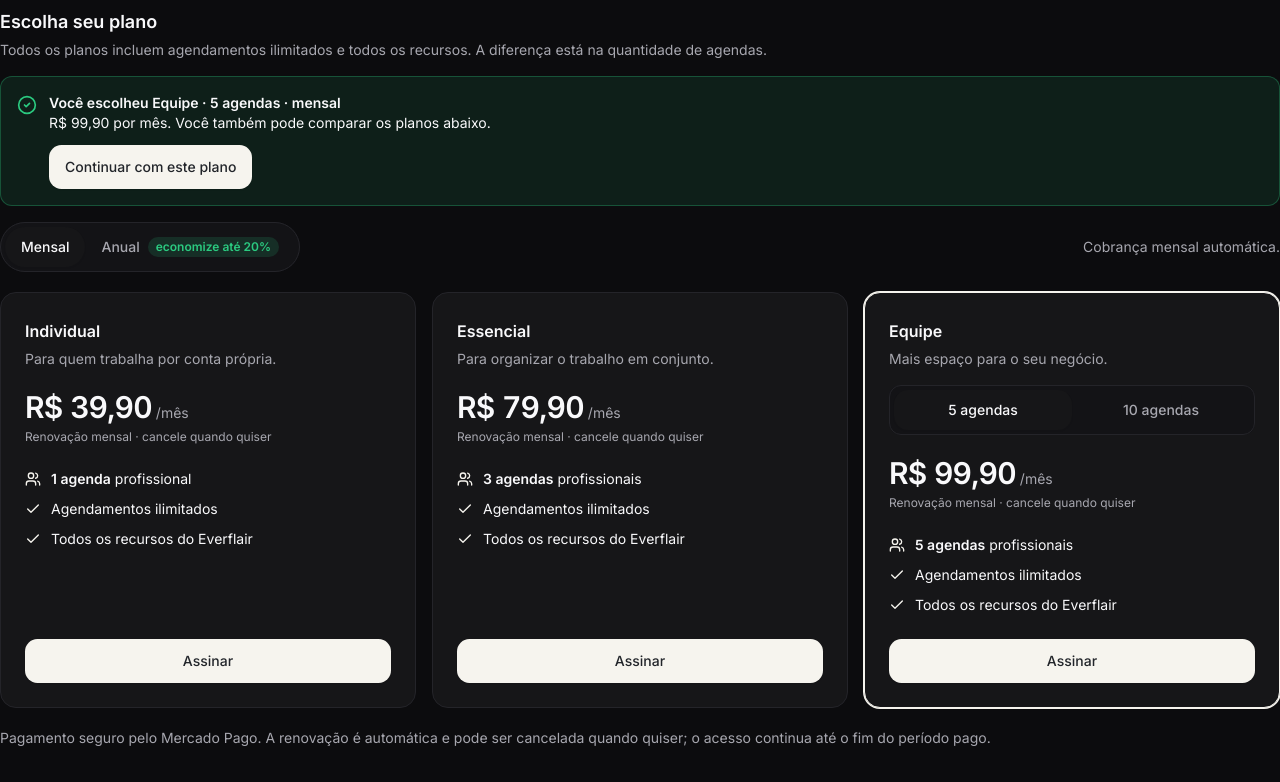
Test: reuses the idempotency key after an uncertain request
The width and height of the screenshot is (1280, 782).
(page scrolled)
Click the button with aria-label "Assinar: Equipe · 5 agendas" at (1072, 661), box [889,639,1255,683]
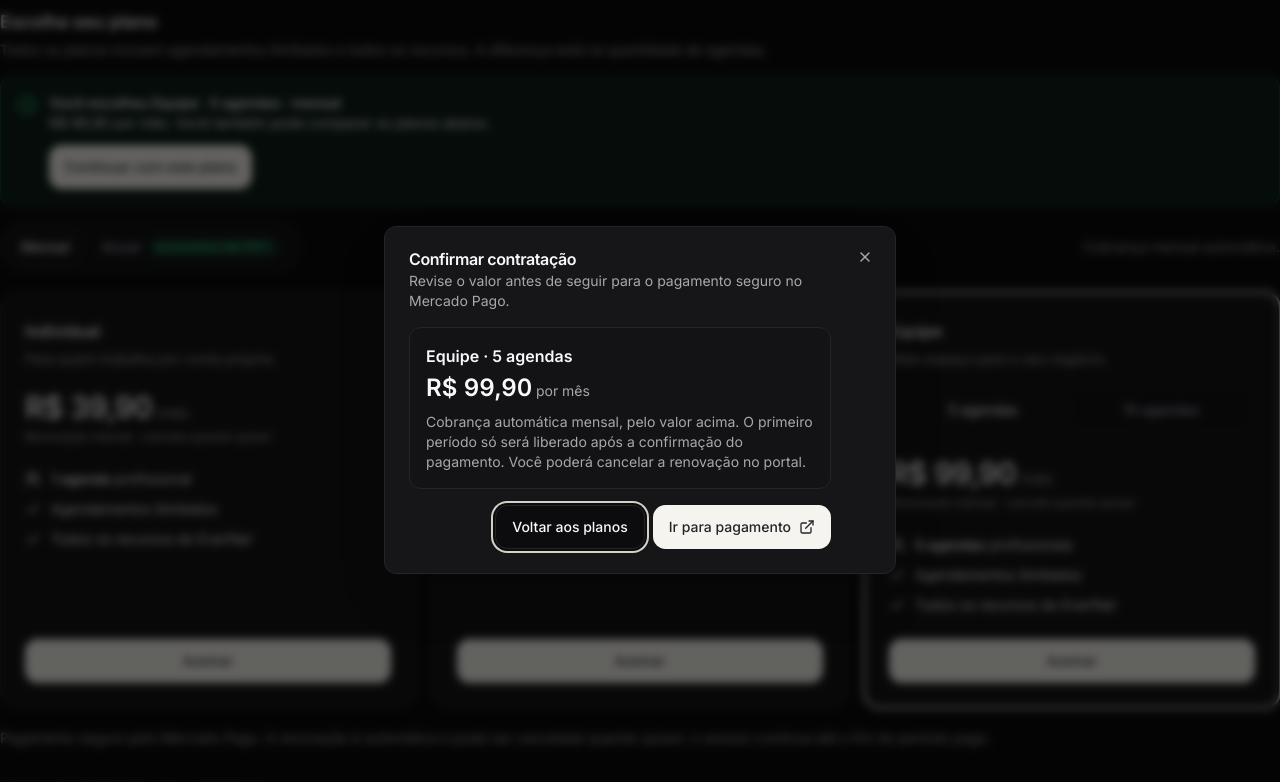
Click the button "Ir para pagamento" at (742, 527), box [653,505,831,549]
(page scrolled)
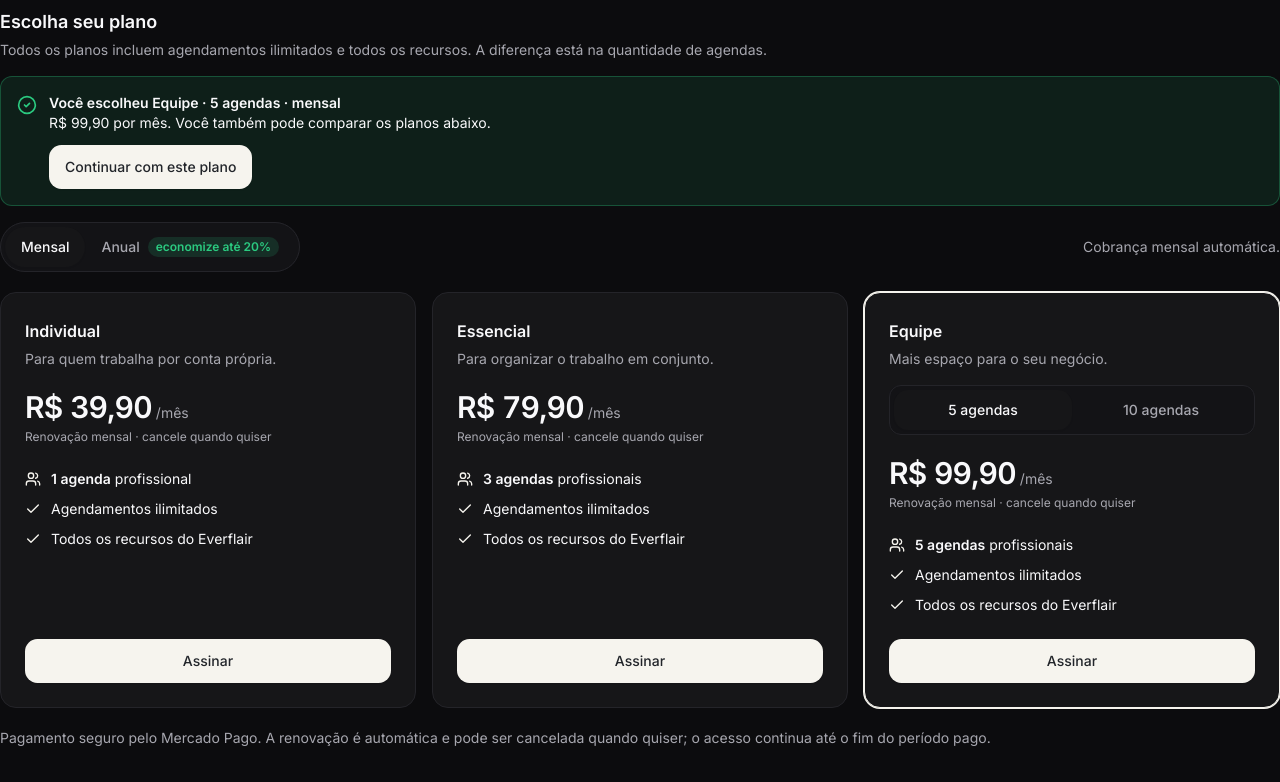
Check: the dialog is gone
Click the button with aria-label "Assinar: Equipe · 5 agendas" at (1072, 661), box [889,639,1255,683]
(page scrolled)
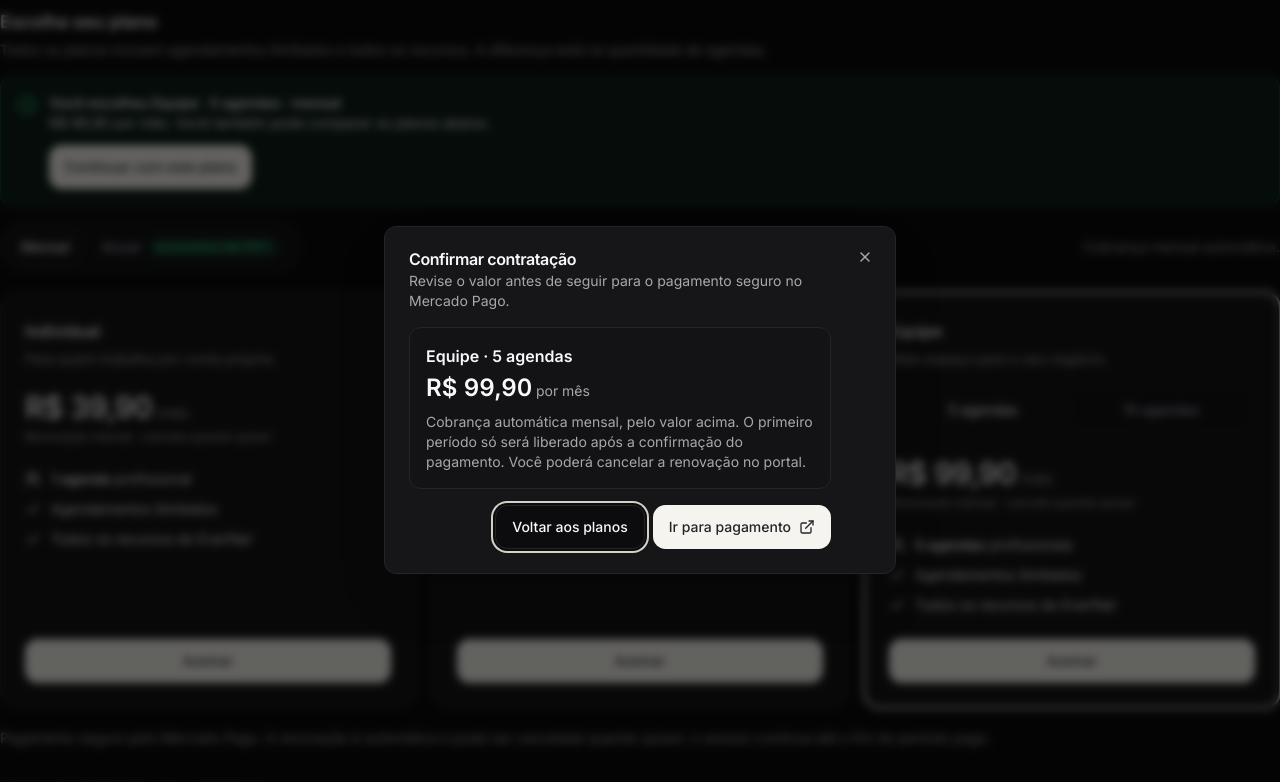
Click the button "Ir para pagamento" at (742, 527), box [653,505,831,549]
(page scrolled)
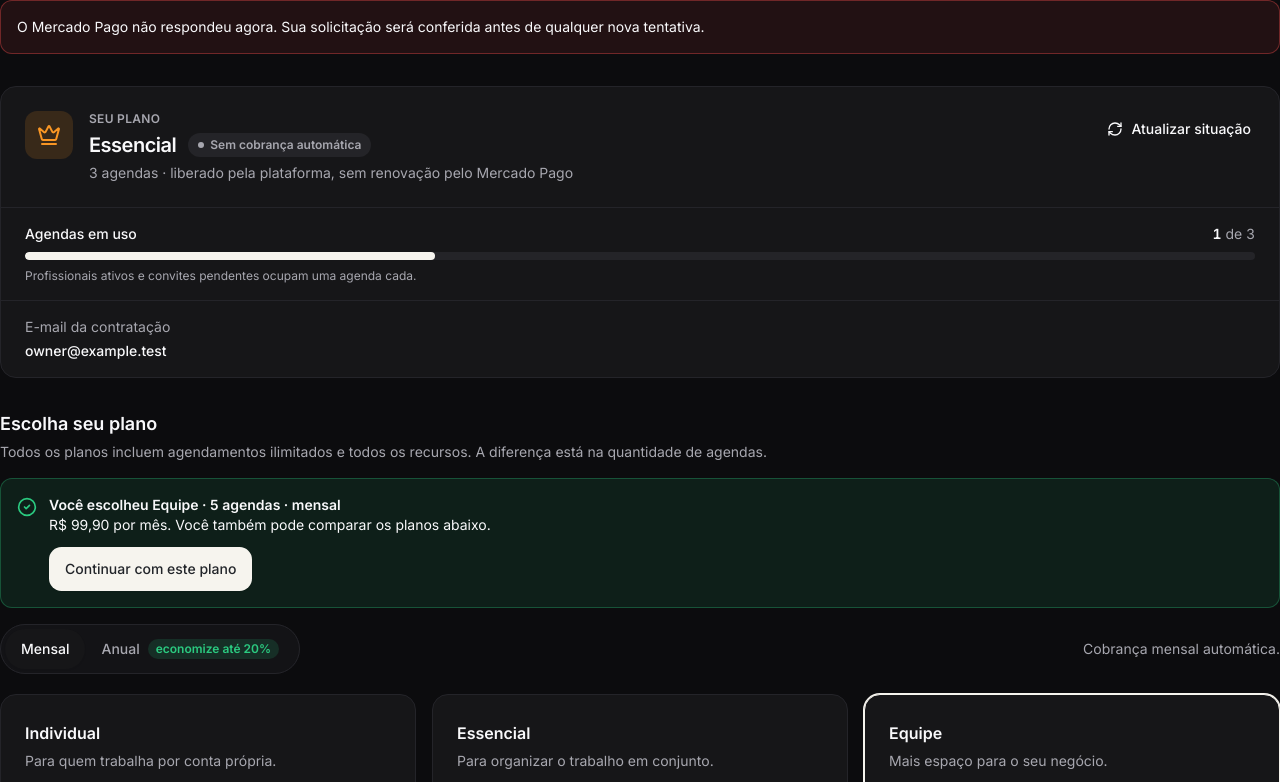
Check: the dialog is gone
